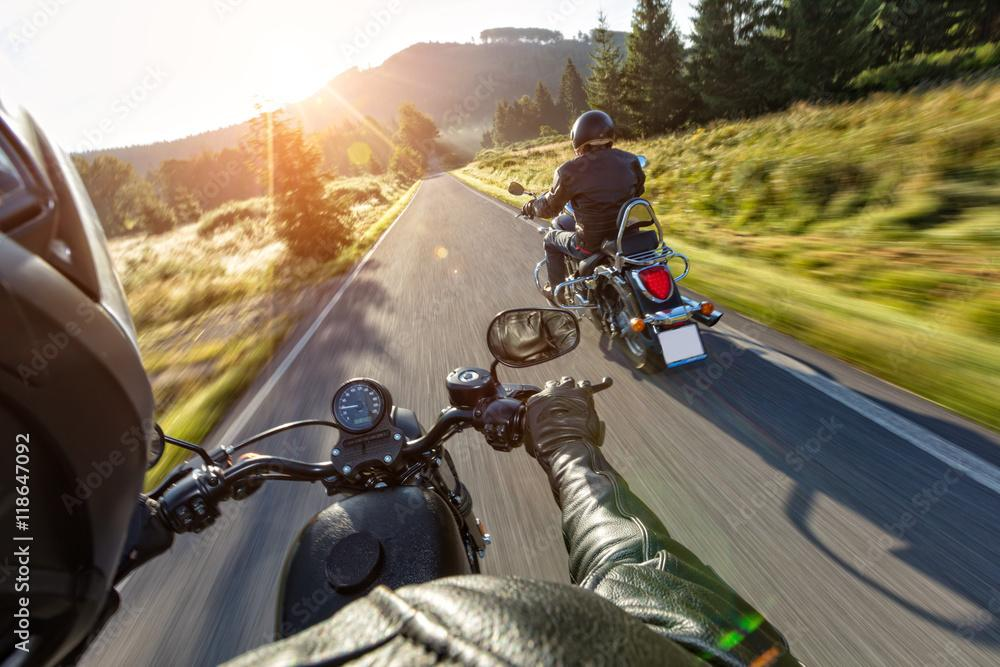helmet: (570, 109, 616, 156)
